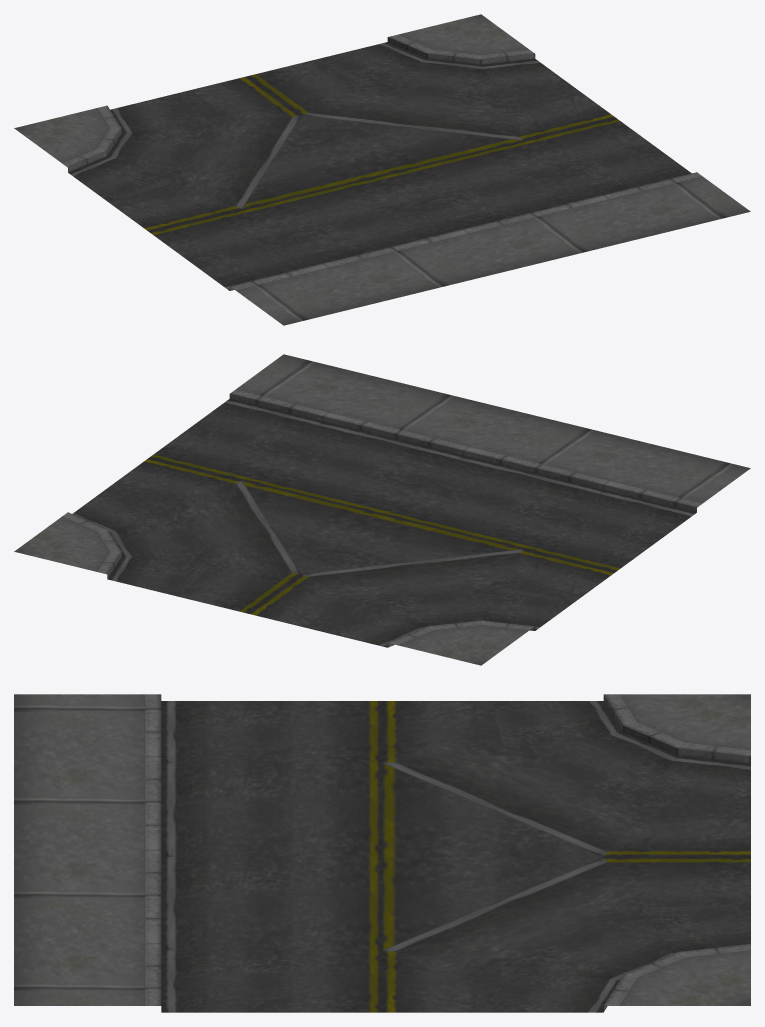
The model's file is road2.fbx.
3 views of the same model, one above another, from view 1: azimuth 30°, elevation 25°; view 2: azimuth 150°, elevation 25°; view 3: azimuth 270°, elevation 25° (orthographic). The views are drawn at different scales.
Visible parts, largest first — view 1: road2; view 2: road2; view 3: road2.
Part boxes in pixels (x1=…): road2: x1=14, y1=14, x2=750, y2=325; road2: x1=14, y1=354, x2=750, y2=665; road2: x1=14, y1=694, x2=750, y2=1012.
Bounding box in the file's own units: 2000 × 2000 × 20.
1 material, 1 textured.
